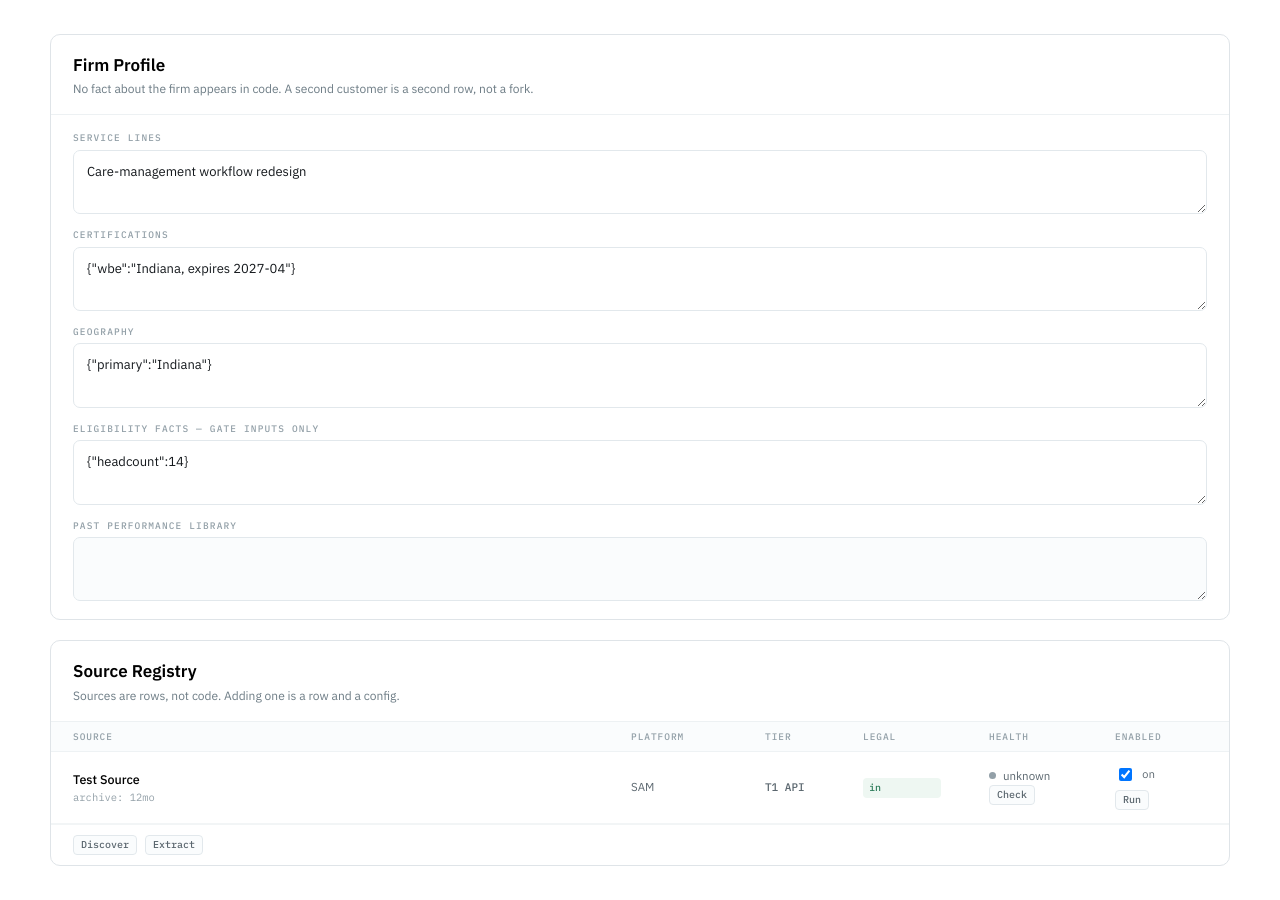
it: Extract POSTs with the admin secret and reports what remains
The image size is (1280, 900).
Click the button with aria-label "extract documents": (174, 845) [145,835,203,855]
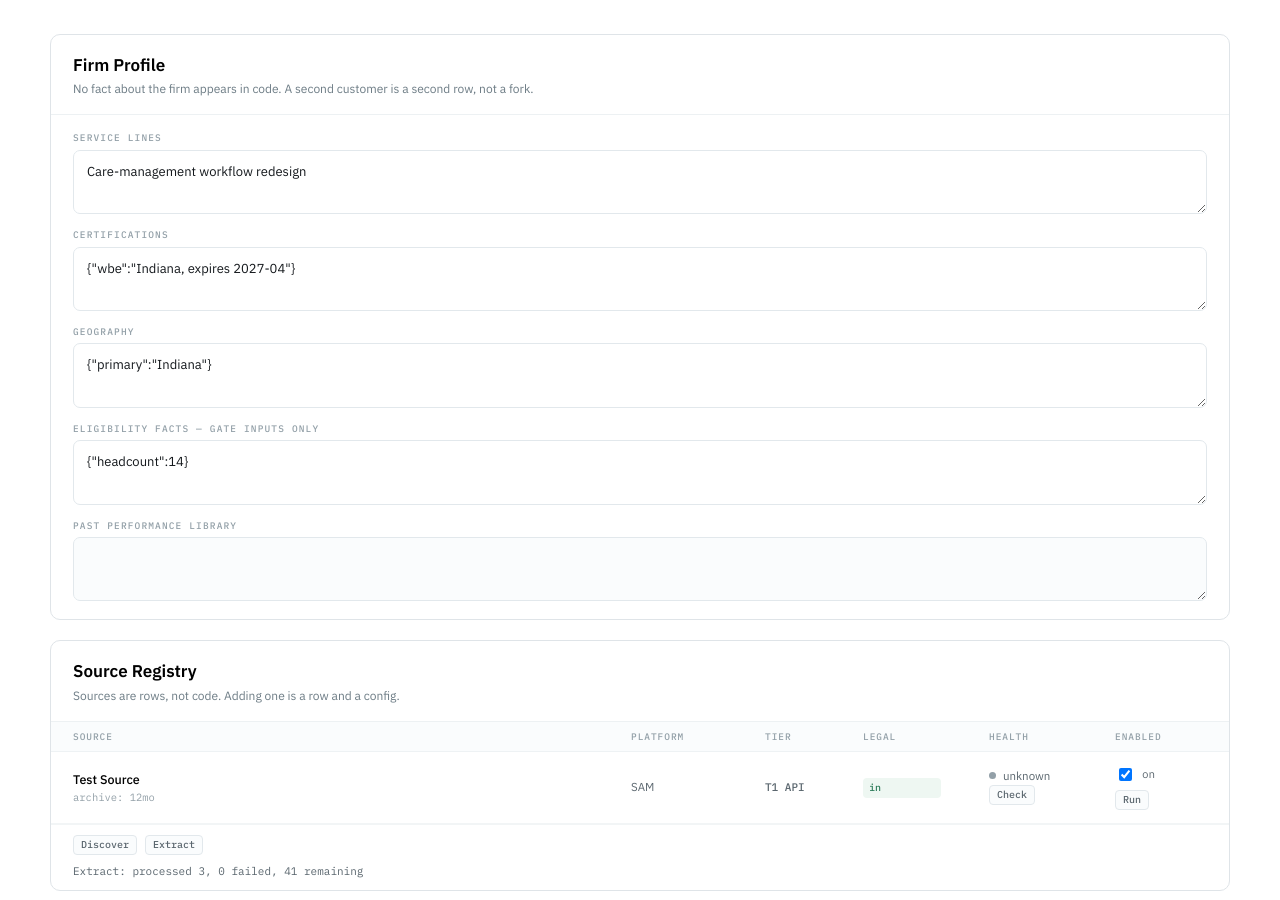
Result: the text "Extract: processed 3, 0 failed, 41 remaining" is shown at [73,864,363,878]
